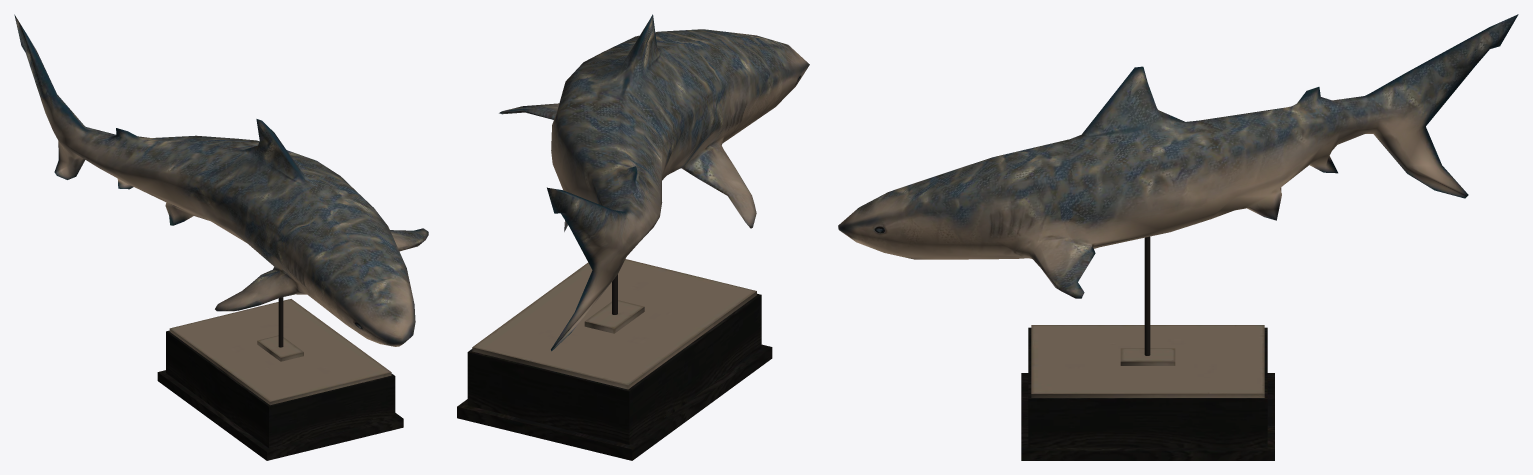
The model's file is bronze_shark_statue.glb.
3 views of the same model, side by side, from view 1: azimuth 30°, elevation 25°; view 2: azimuth 150°, elevation 25°; view 3: azimuth 270°, elevation 25° (orthographic). The views are drawn at different scales.
Parts seen in each view (by area): view 1: bronze_shark_statue; view 2: bronze_shark_statue; view 3: bronze_shark_statue.
Part boxes in pixels (x1=…): bronze_shark_statue: x1=14, y1=14, x2=428, y2=460; bronze_shark_statue: x1=457, y1=14, x2=809, y2=460; bronze_shark_statue: x1=838, y1=14, x2=1518, y2=460.
Bounding box in the file's own units: 0.3511 × 0.4283 × 0.7598.
1 material, 1 textured.
